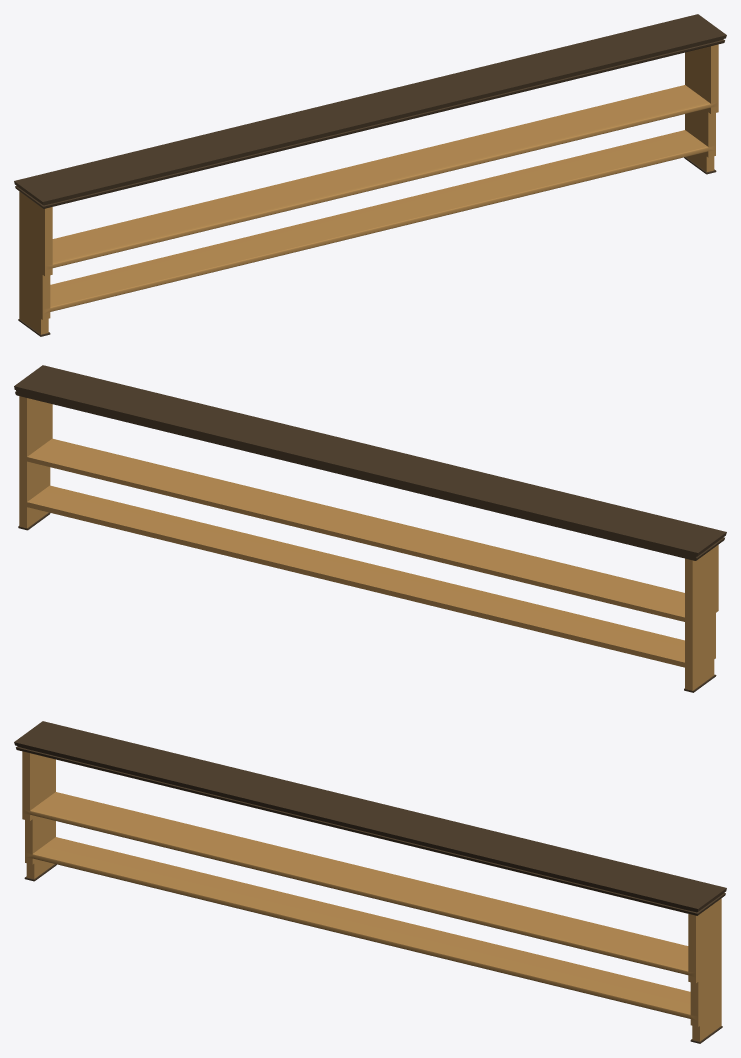
File: Alacena_25x5.fbx
The picture shows the model from 3 angles, top to bottom: view 1: azimuth 30°, elevation 25°; view 2: azimuth 150°, elevation 25°; view 3: azimuth 330°, elevation 25°; orthographic projection.
Visible parts, largest first — view 1: Cocina_Alacena_GEO; view 2: Cocina_Alacena_GEO; view 3: Cocina_Alacena_GEO.
Boxes of the visible parts, left/top/right/bottom form: Cocina_Alacena_GEO: left=14, top=14, right=726, bottom=336; Cocina_Alacena_GEO: left=14, top=365, right=726, bottom=692; Cocina_Alacena_GEO: left=14, top=721, right=726, bottom=1043.
Bounding box in the file's own units: 25.4 × 5 × 1.86.
